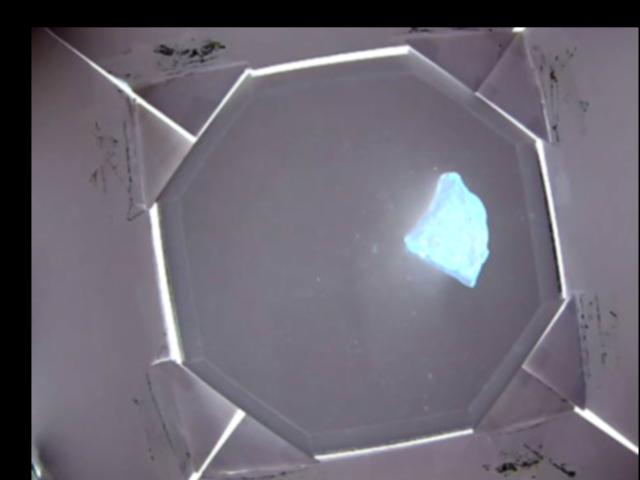Brisk: (403, 172, 489, 286)
